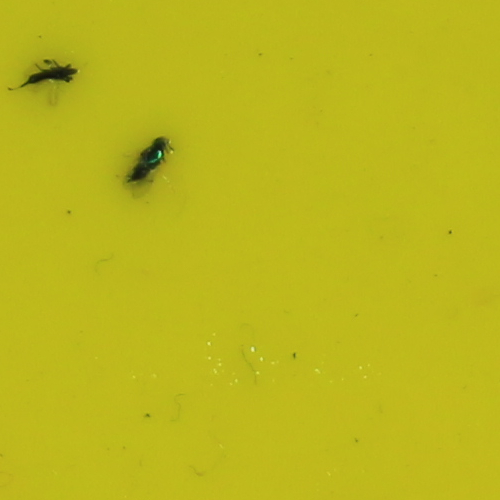Psyllaephagus: (130, 137, 174, 183)
